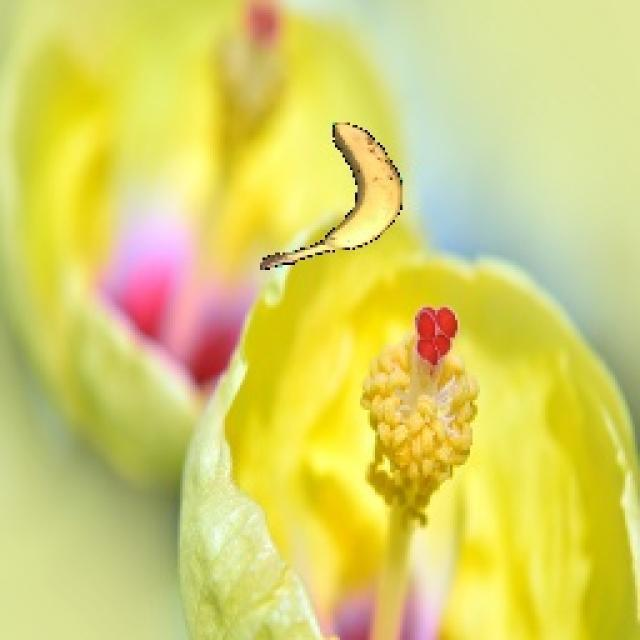Banana: (262, 114, 406, 269)
